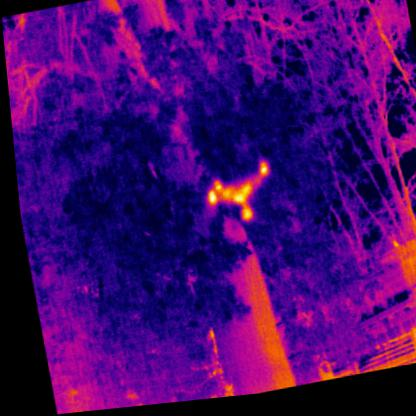drone: (198, 164, 273, 232)
